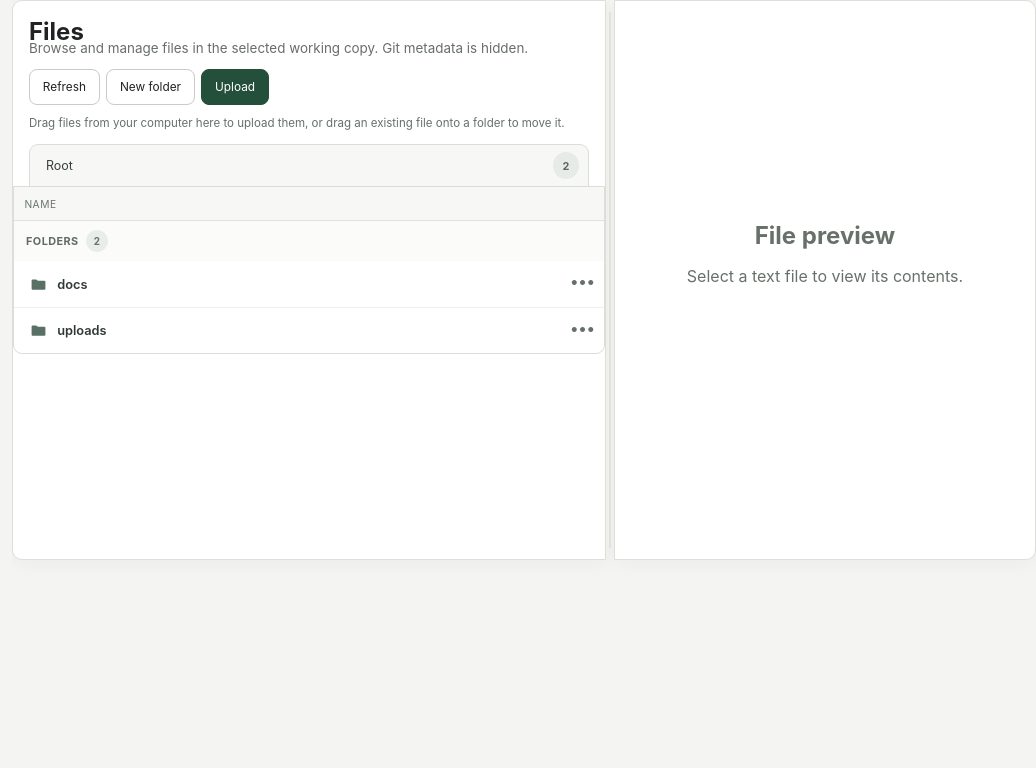
Test: working tree file manager › ignores a late directory response after navigating elsewhere
The width and height of the screenshot is (1036, 768).
Click the button "docs": (72, 284) x1=14 y1=262 x2=562 y2=307
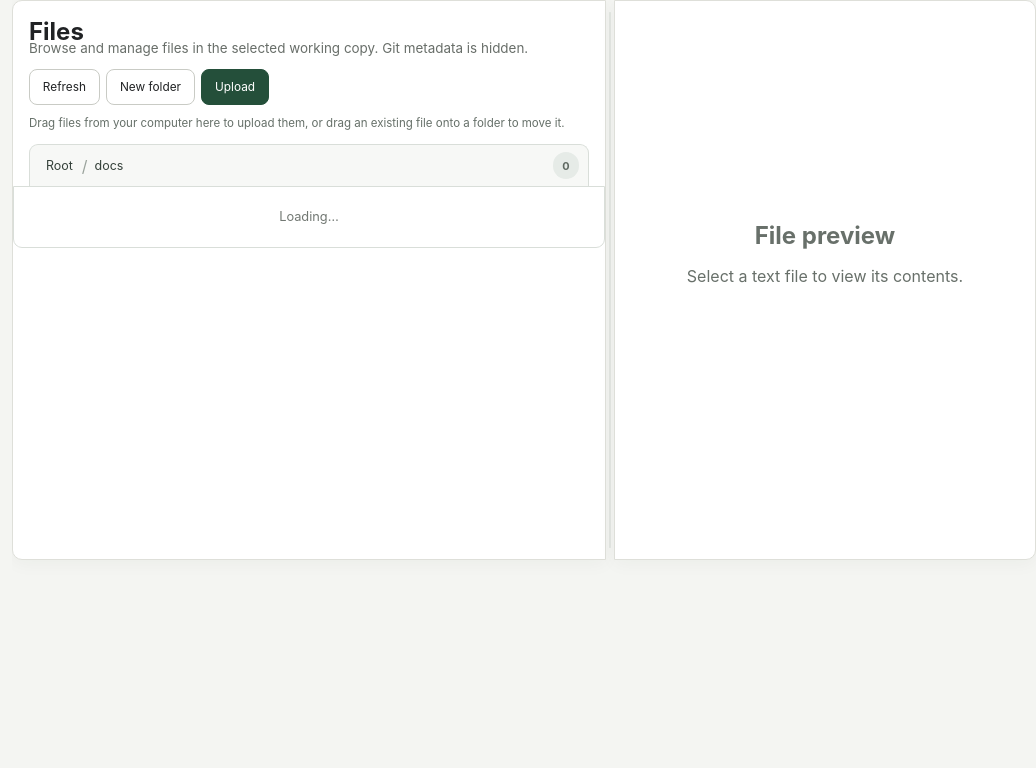
Click the button "Root": (59, 166) x1=39 y1=153 x2=80 y2=178
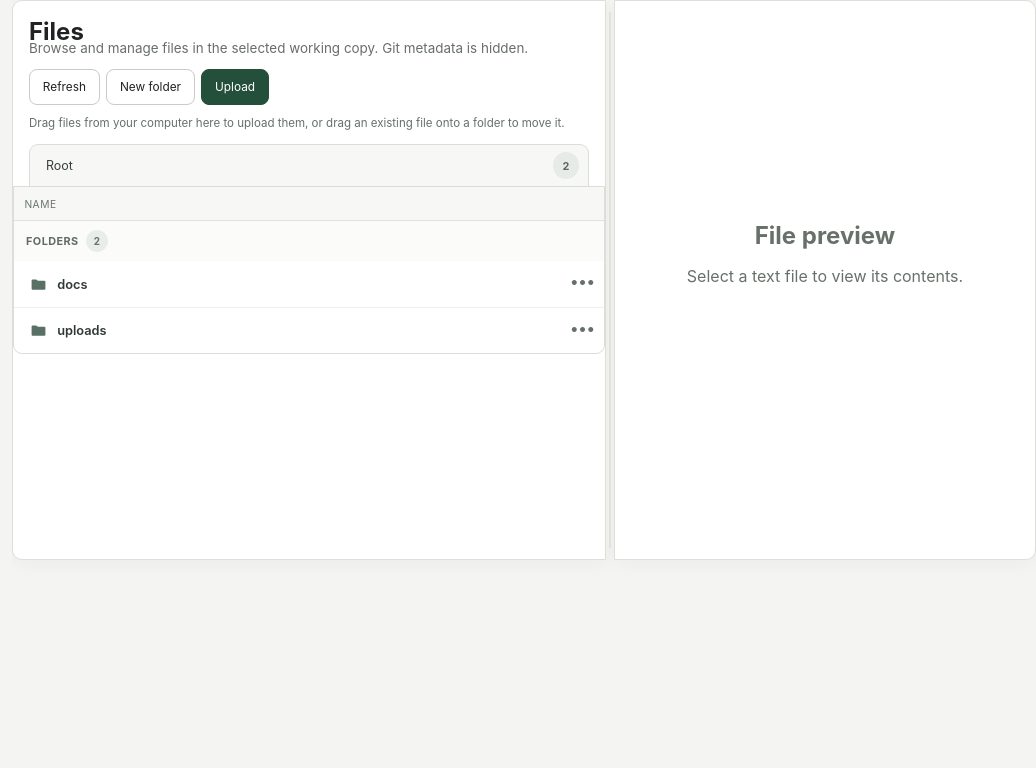
Result: the button "uploads" is shown at x1=14 y1=308 x2=562 y2=353
